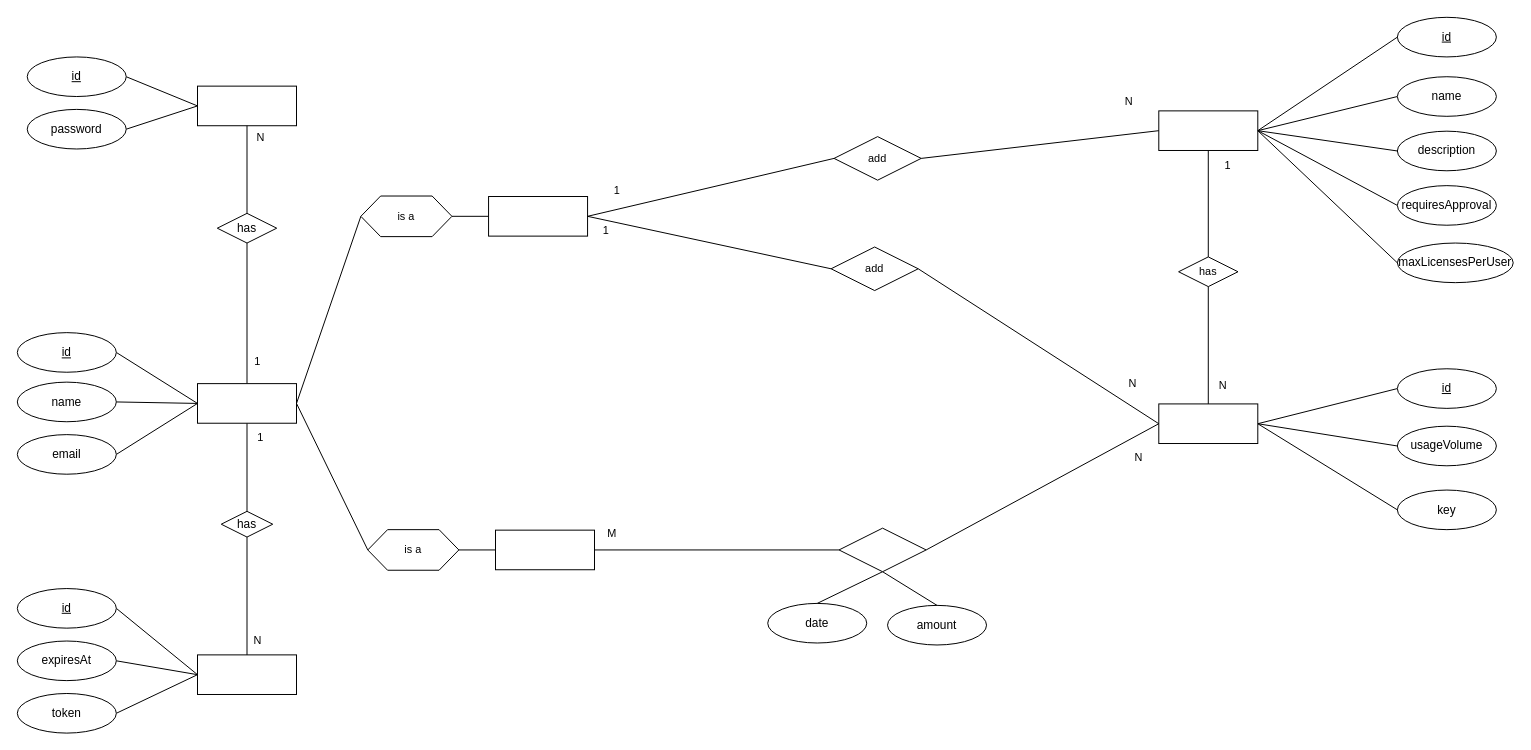
This 1531x750 diagram has some shape labels left out. Here are the shapes that lost their labels. From the top down, the centre of each, then its label:
At [247,105]: "Account".
At [1208,130]: "Product".
At [538,216]: "Admin".
At [247,403]: "User".
At [1208,423]: "License".
At [544,549]: "Employee".
At [882,549]: "obtains".
At [247,674]: "Session".
